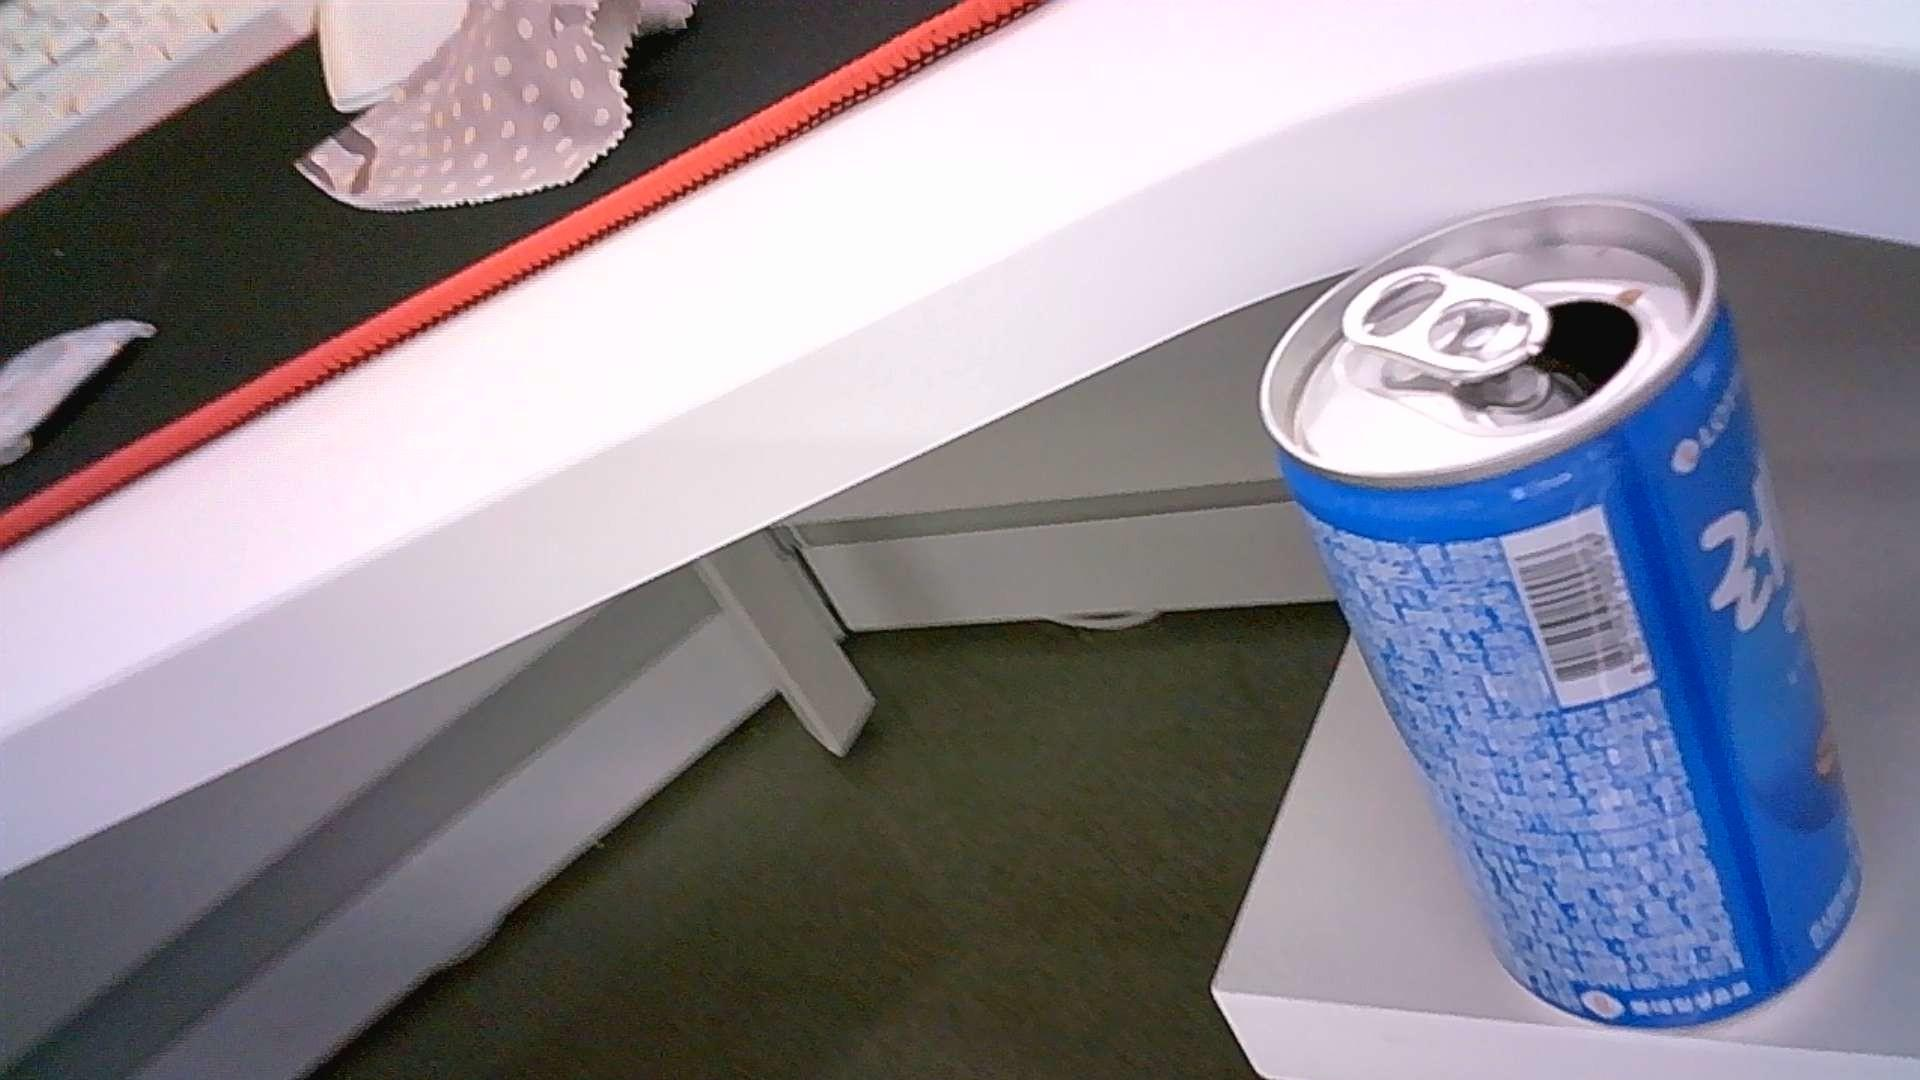letsbe: (1258, 191, 1867, 1034)
